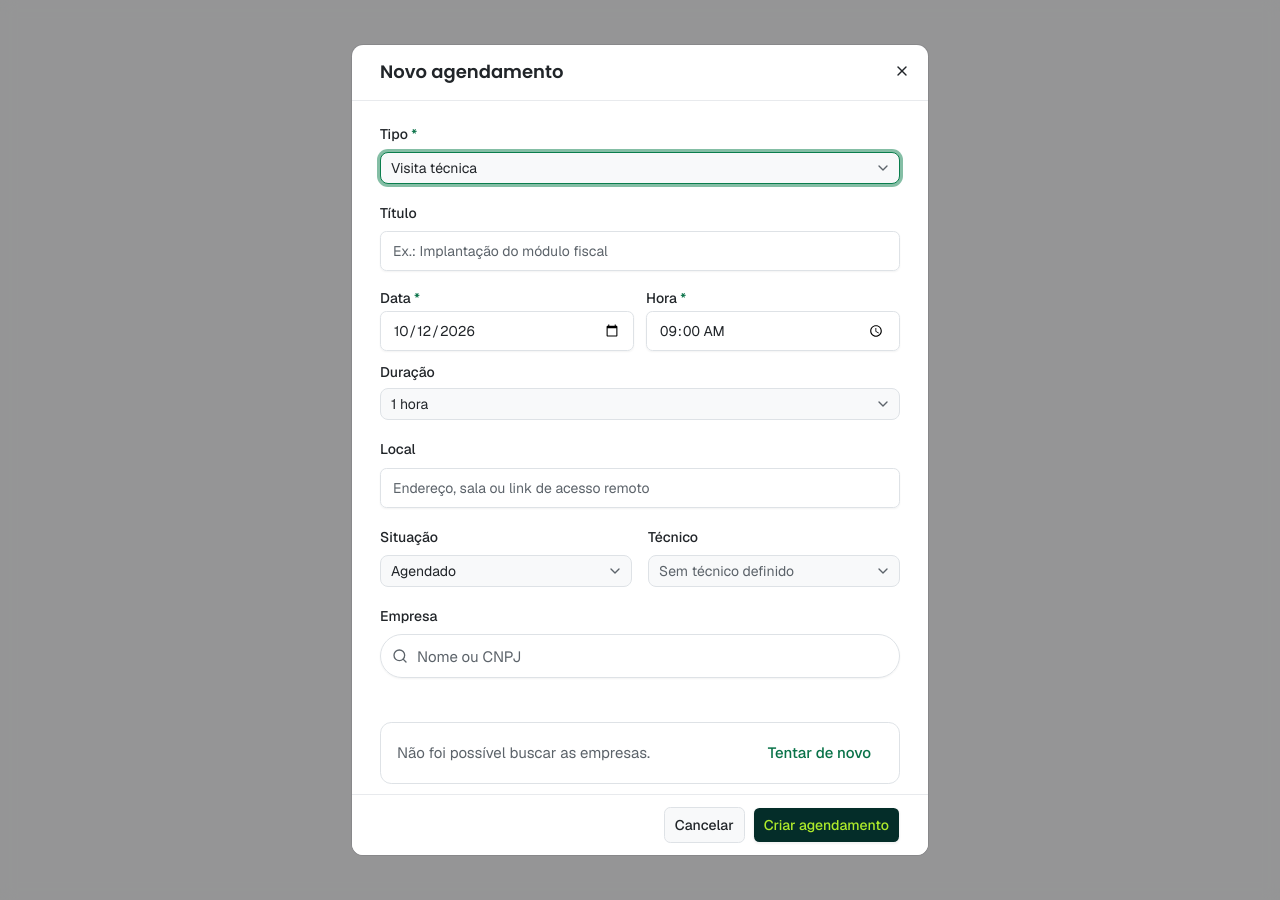
AppointmentDialog — bloqueios › bloqueio de um técnico só avisa quando ELE é o escolhido
The width and height of the screenshot is (1280, 900).
Click the dropdown labelled "técnico": coordinates (774, 571) [648, 555, 900, 587]
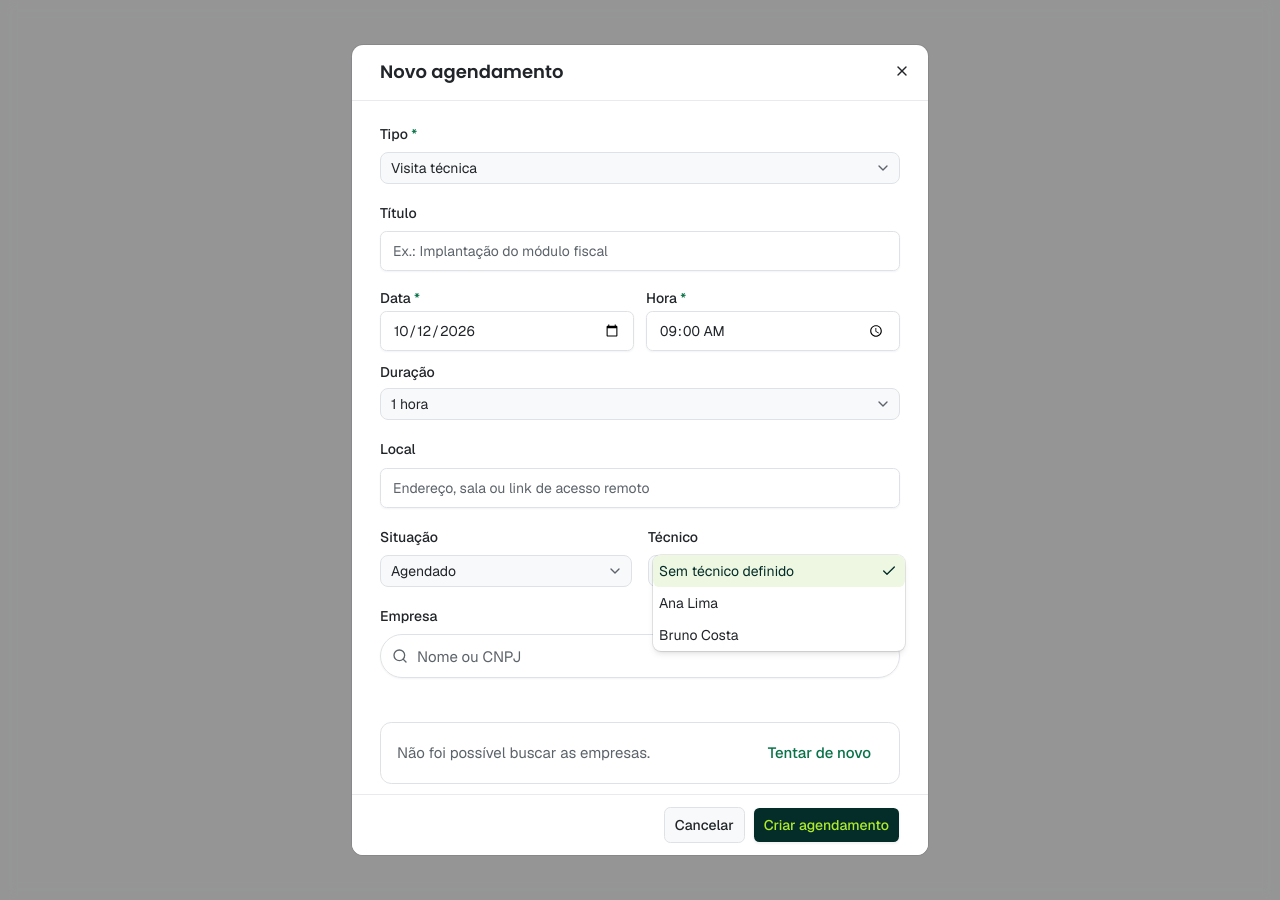
Click the option "Bruno Costa": coordinates (699, 635) [659, 626, 738, 644]
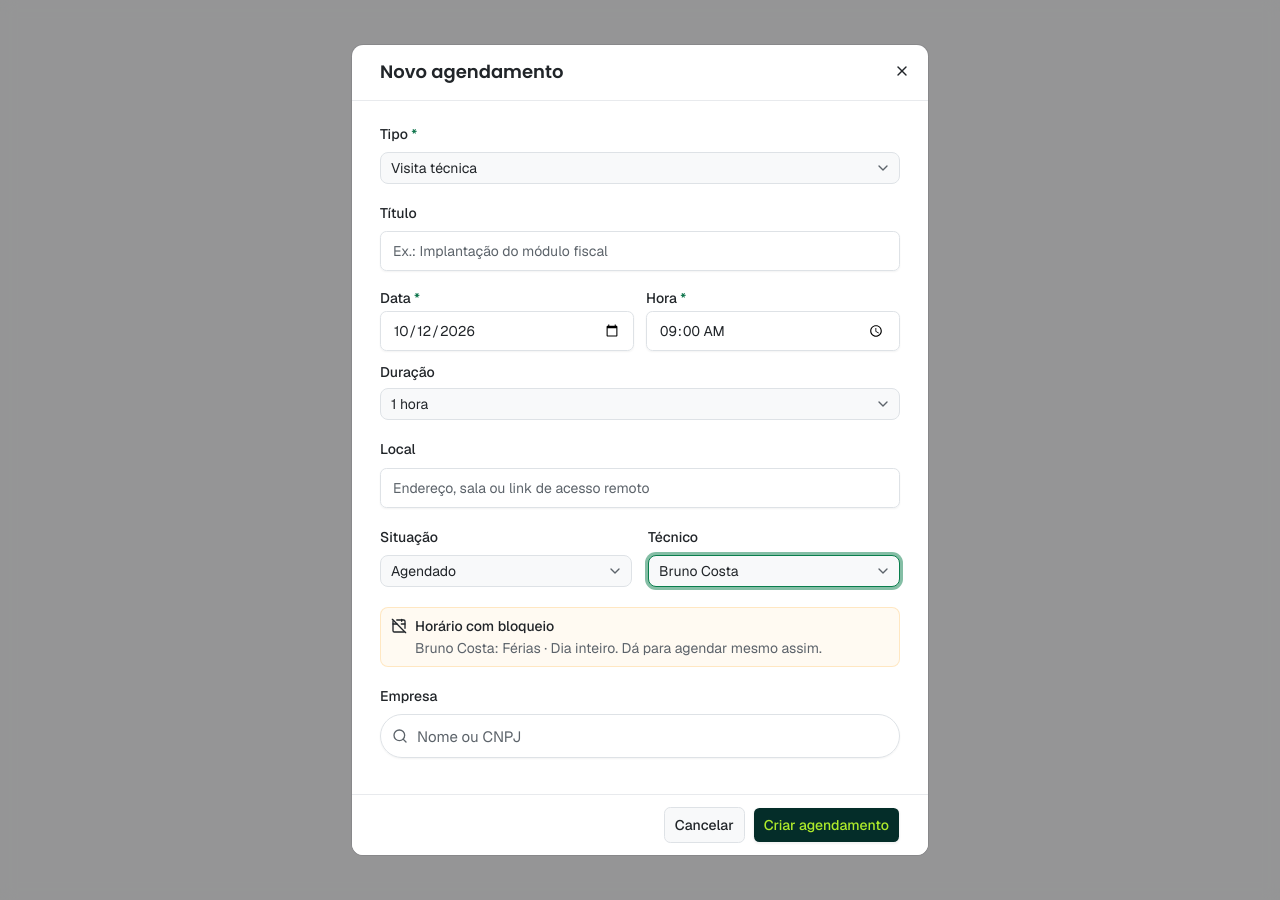
Result: the message shows "Bruno Costa: Férias · Dia inteiro" at [415, 639, 615, 657]
